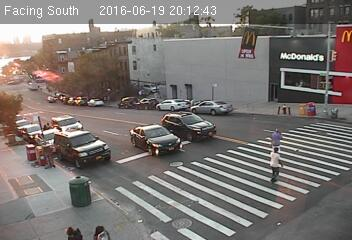neg: (239, 24, 265, 58), (68, 174, 91, 205), (183, 133, 205, 163), (34, 145, 55, 173), (220, 86, 241, 114), (317, 142, 337, 169), (192, 55, 212, 82), (131, 91, 150, 116), (312, 93, 330, 118), (47, 90, 64, 113), (90, 43, 107, 66), (39, 61, 55, 83), (153, 176, 169, 198), (286, 52, 302, 73), (96, 136, 111, 156), (127, 52, 142, 72), (278, 99, 293, 119), (176, 212, 190, 231)
pos: (264, 148, 290, 183), (267, 125, 285, 149)
